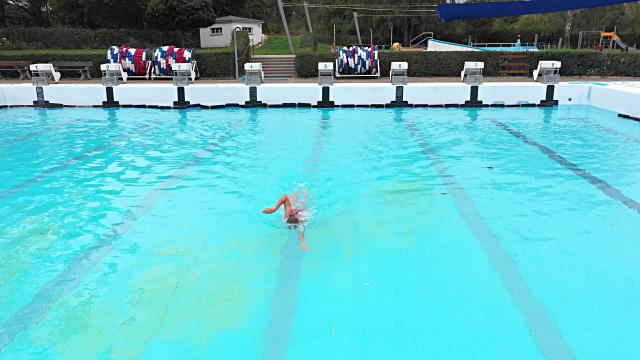human: (264, 186, 310, 255)
